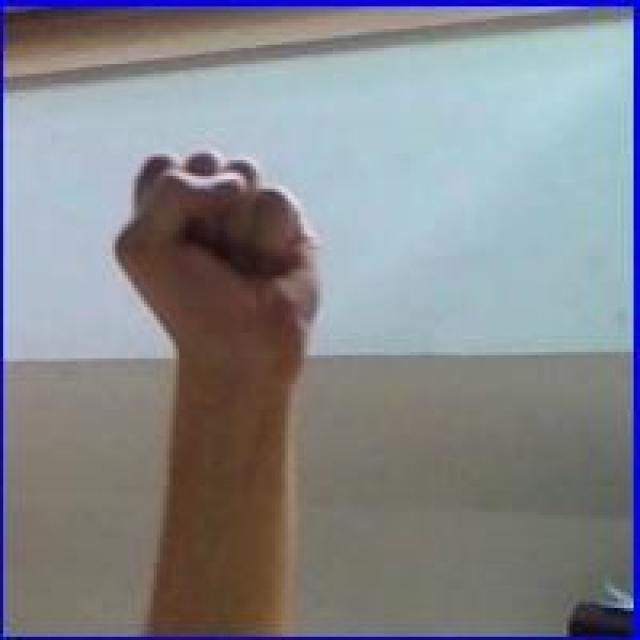S: (107, 130, 325, 408)
